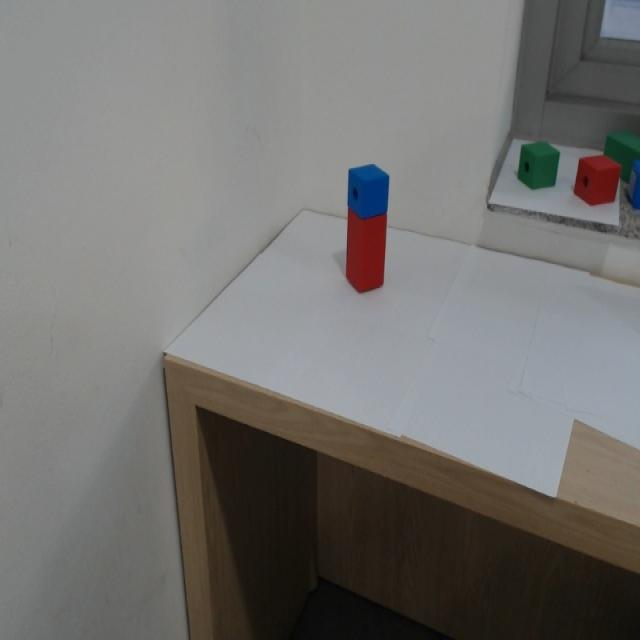cube: (343, 158, 406, 218)
